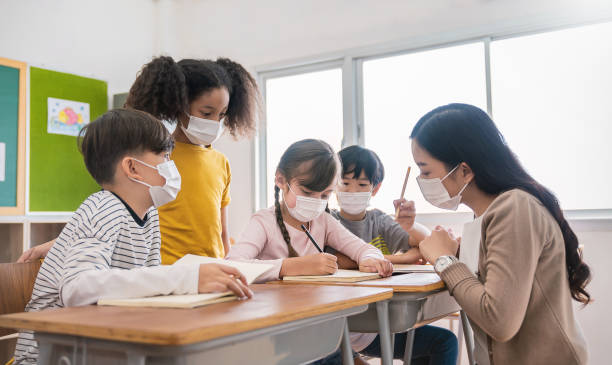with mask: (408, 123, 484, 208), (112, 129, 185, 213), (276, 153, 333, 224), (176, 82, 230, 146), (330, 163, 377, 215)
